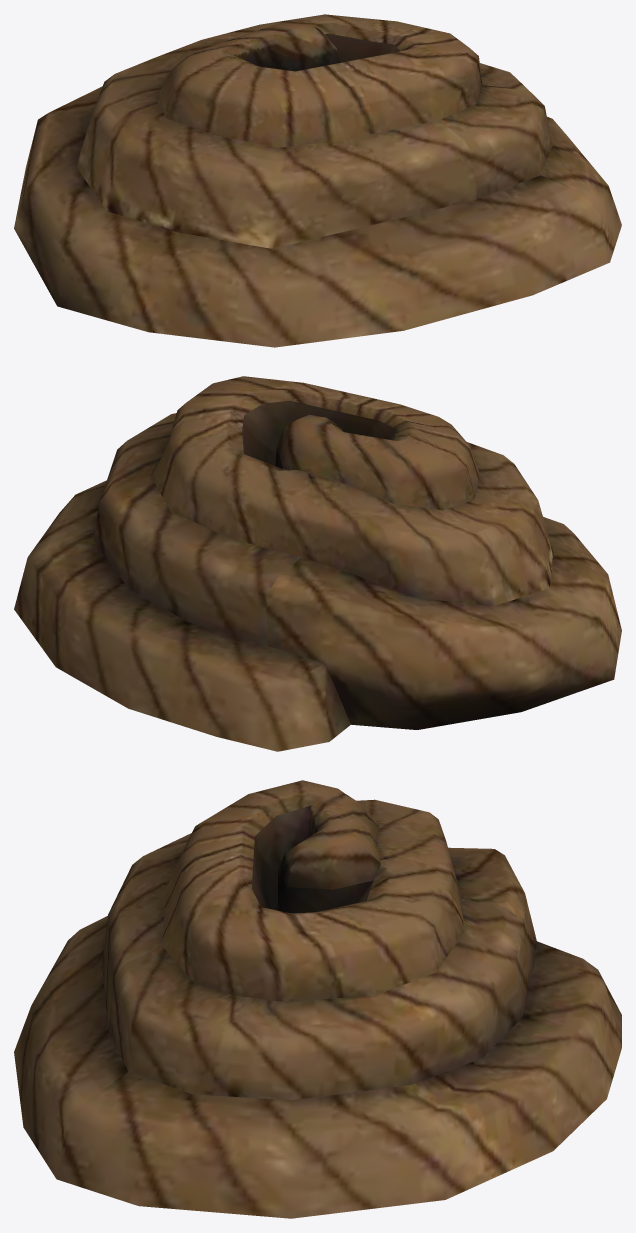
3 views of the same model, one above another, from view 1: azimuth 30°, elevation 25°; view 2: azimuth 150°, elevation 25°; view 3: azimuth 270°, elevation 25° (orthographic). The views are drawn at different scales.
Parts seen in each view (by area): view 1: body0_model0_lod0_mesh0; view 2: body0_model0_lod0_mesh0; view 3: body0_model0_lod0_mesh0.
Part boxes in pixels (bbox=[...]): body0_model0_lod0_mesh0: bbox=[14, 14, 621, 347]; body0_model0_lod0_mesh0: bbox=[14, 376, 621, 751]; body0_model0_lod0_mesh0: bbox=[14, 780, 621, 1218].
Size of the model in its own units: 45.51 by 16.21 by 39.01.
Materials: 1 (1 with a texture image).
